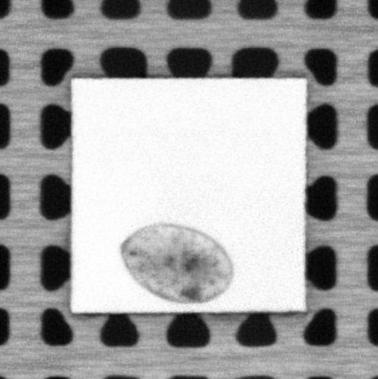DIE_INK: (117, 223, 239, 306)
